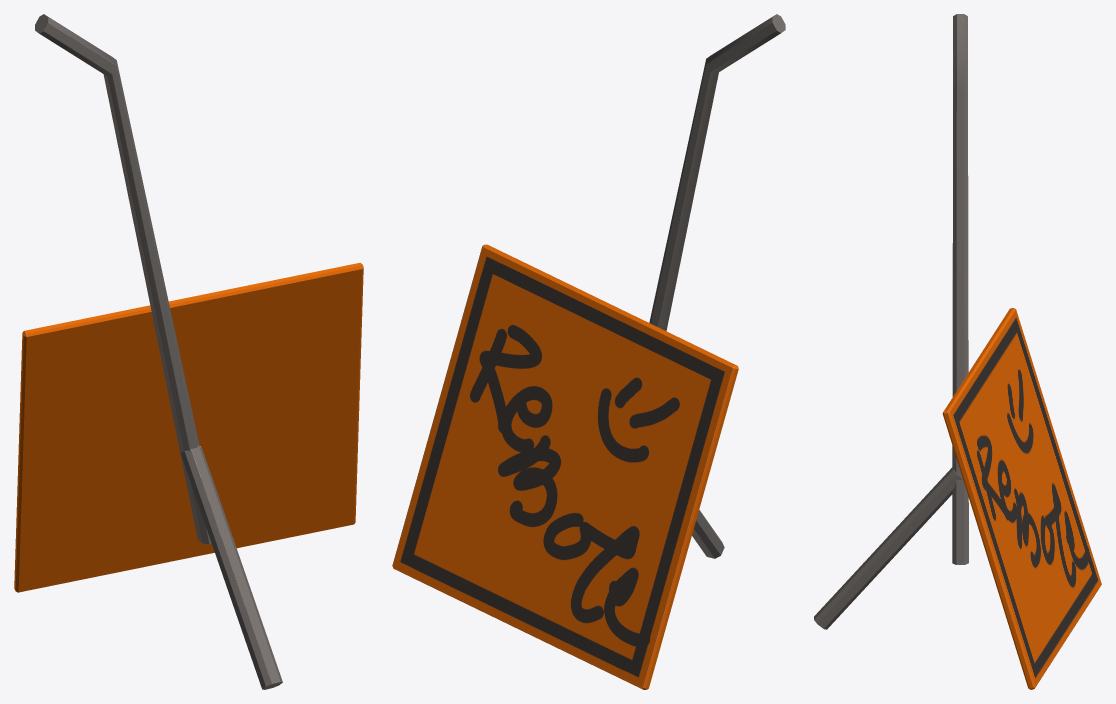
File: RoadBlock_5.fbx
3 views of the same model, side by side, from view 1: azimuth 30°, elevation 25°; view 2: azimuth 150°, elevation 25°; view 3: azimuth 270°, elevation 25° (orthographic). The views are drawn at different scales.
Parts seen in each view (by area): view 1: pasted__pCube1, pasted__pasted__pCube3, pasted__pasted__pasted__pCube3; view 2: pasted__pCube1, pasted__pasted__pCube3, pasted__pasted__pasted__pCube3; view 3: pasted__pCube1, pasted__pasted__pCube3, pasted__pasted__pasted__pCube3.
Boxes of the visible parts, <box> form: pasted__pCube1: <box>14,263,363,592</box>; pasted__pasted__pCube3: <box>35,14,211,544</box>; pasted__pasted__pasted__pCube3: <box>180,445,282,689</box>; pasted__pCube1: <box>392,244,738,689</box>; pasted__pasted__pCube3: <box>649,14,785,331</box>; pasted__pasted__pasted__pCube3: <box>692,510,724,558</box>; pasted__pCube1: <box>942,308,1101,689</box>; pasted__pasted__pCube3: <box>952,14,968,564</box>; pasted__pasted__pasted__pCube3: <box>814,467,962,629</box>.
Bounding box in the file's own units: 251 × 434 × 204.
Materials: 1 (1 with a texture image).
